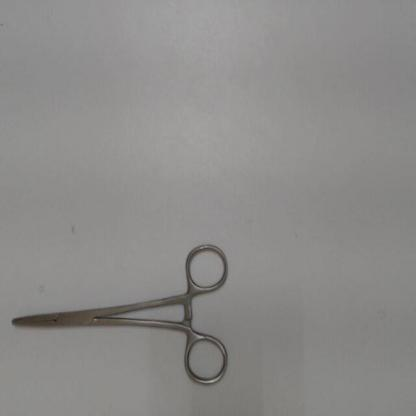Mayo Needle Holder: (7, 234, 237, 393)
